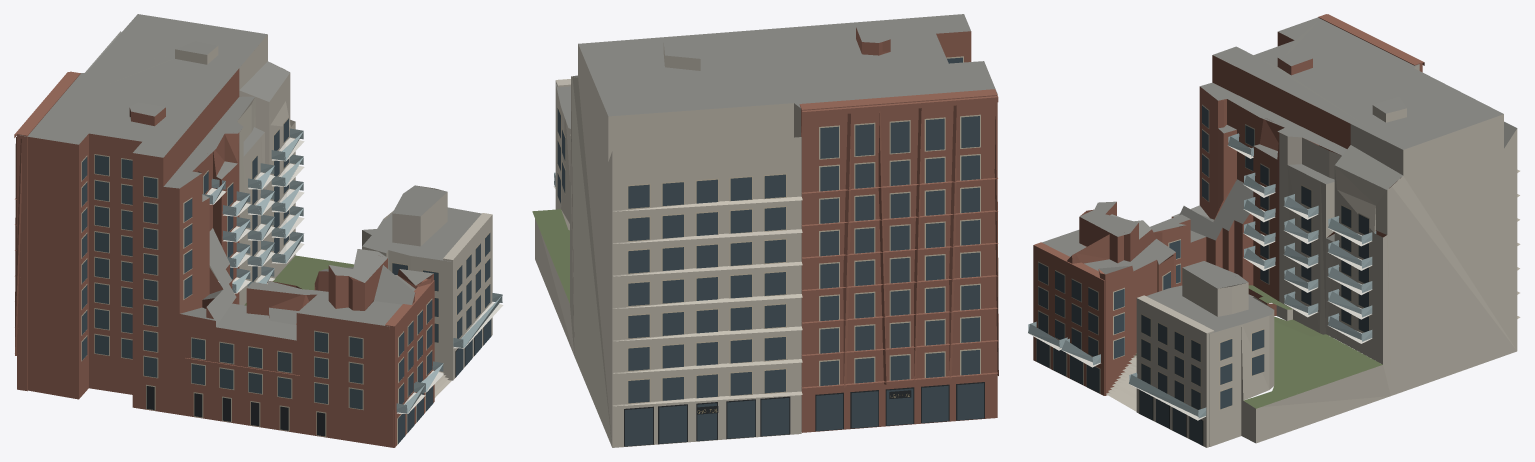
The model's file is blok0-ij4you.lod1.glb.
3 renders of one model, left to right at view 1: azimuth 30°, elevation 25°; view 2: azimuth 150°, elevation 25°; view 3: azimuth 270°, elevation 25°, orthographic. The views are drawn at different scales.
Parts seen in each view (by area): view 1: blok0-ij4you; view 2: blok0-ij4you; view 3: blok0-ij4you.
Part boxes in pixels (x1,y1,x2,y2): blok0-ij4you: [14, 14, 503, 447]; blok0-ij4you: [532, 14, 998, 447]; blok0-ij4you: [1028, 14, 1520, 447].
Bounding box in the file's own units: 49.7 × 29.89 × 53.15.
